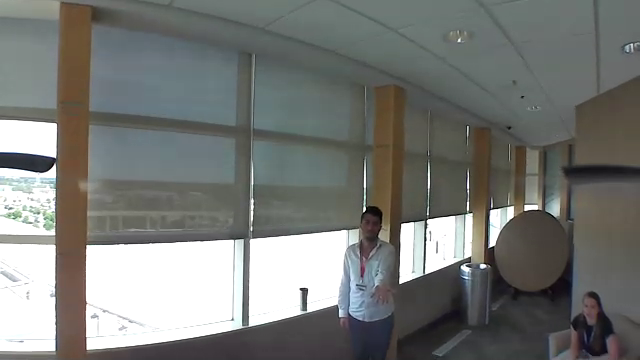land: (368, 284, 400, 307)
